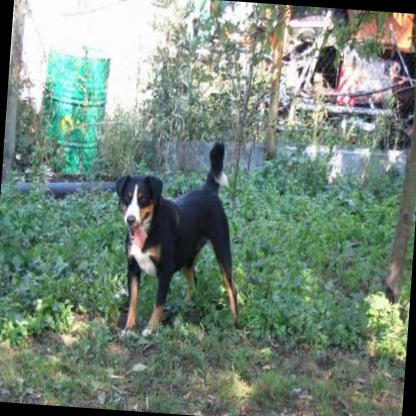Appenzeller: (100, 130, 255, 345)
